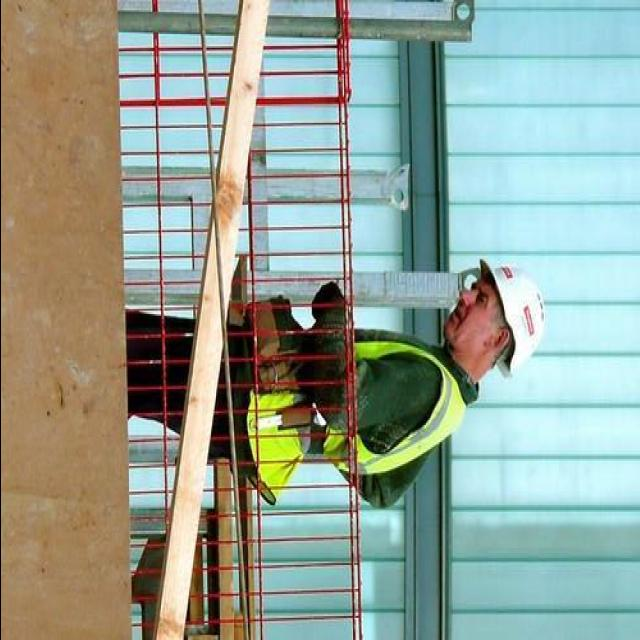helmet: (486, 232, 556, 390)
jacket: (241, 327, 464, 489)
